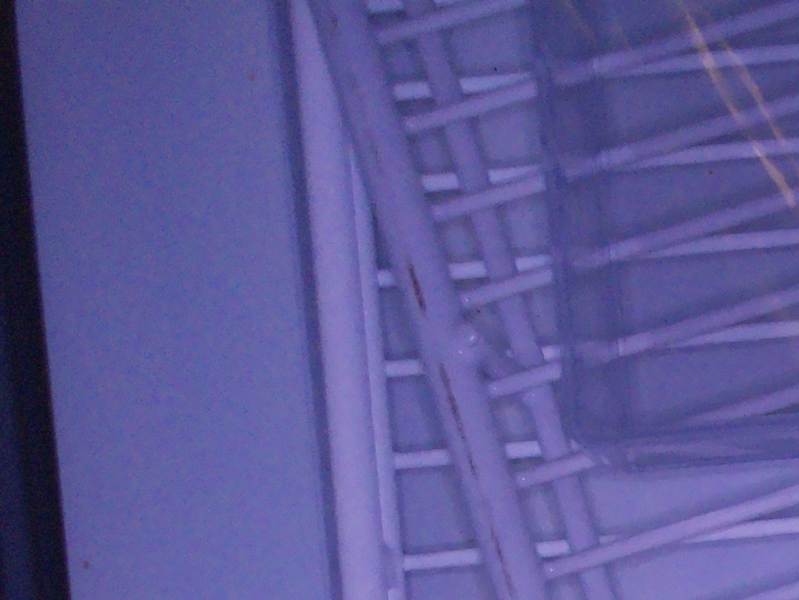plate: (517, 1, 799, 474)
